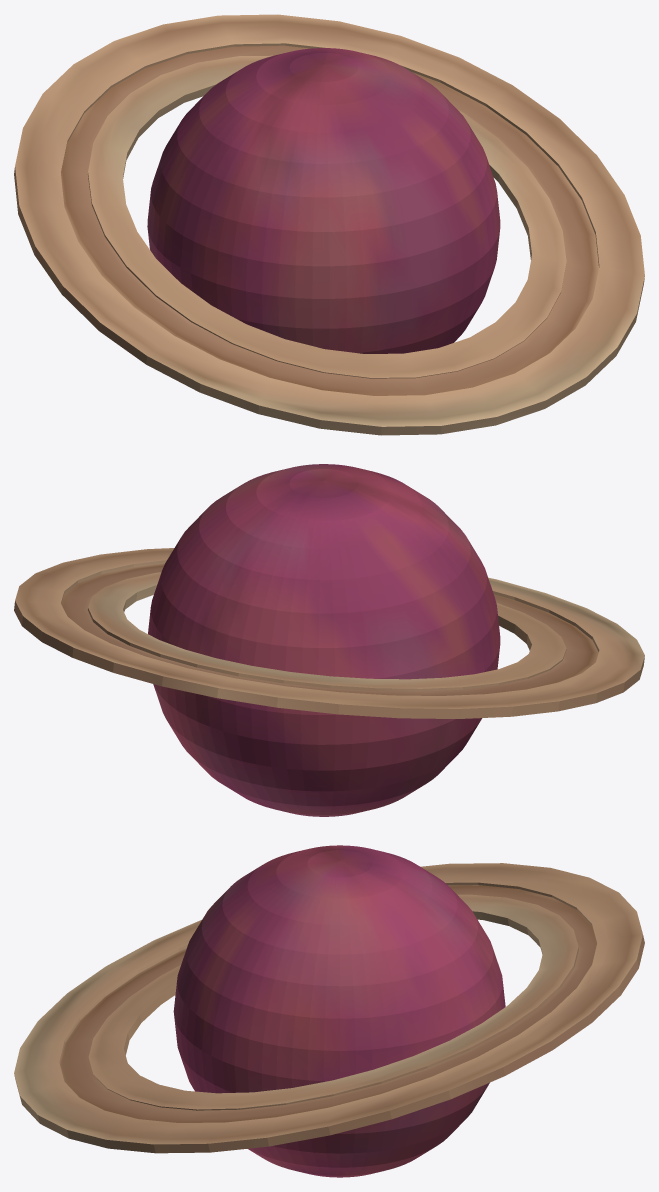
The model's file is Planets.fbx.
The picture shows the model from 3 angles, top to bottom: view 1: azimuth 30°, elevation 25°; view 2: azimuth 150°, elevation 25°; view 3: azimuth 270°, elevation 25°; orthographic projection. The views are drawn at different scales.
Visible parts, largest first — view 1: Sphere.001, Sphere; view 2: Sphere, Sphere.001; view 3: Sphere, Sphere.001.
Boxes of the visible parts, left/top/right/bottom form: Sphere.001: left=14, top=14, right=644, bottom=435; Sphere: left=147, top=48, right=500, bottom=353; Sphere: left=148, top=464, right=500, bottom=816; Sphere.001: left=14, top=548, right=644, bottom=718; Sphere: left=173, top=845, right=505, bottom=1177; Sphere.001: left=14, top=863, right=644, bottom=1153.
Bounding box in the file's own units: 2485 × 1422 × 2700.
